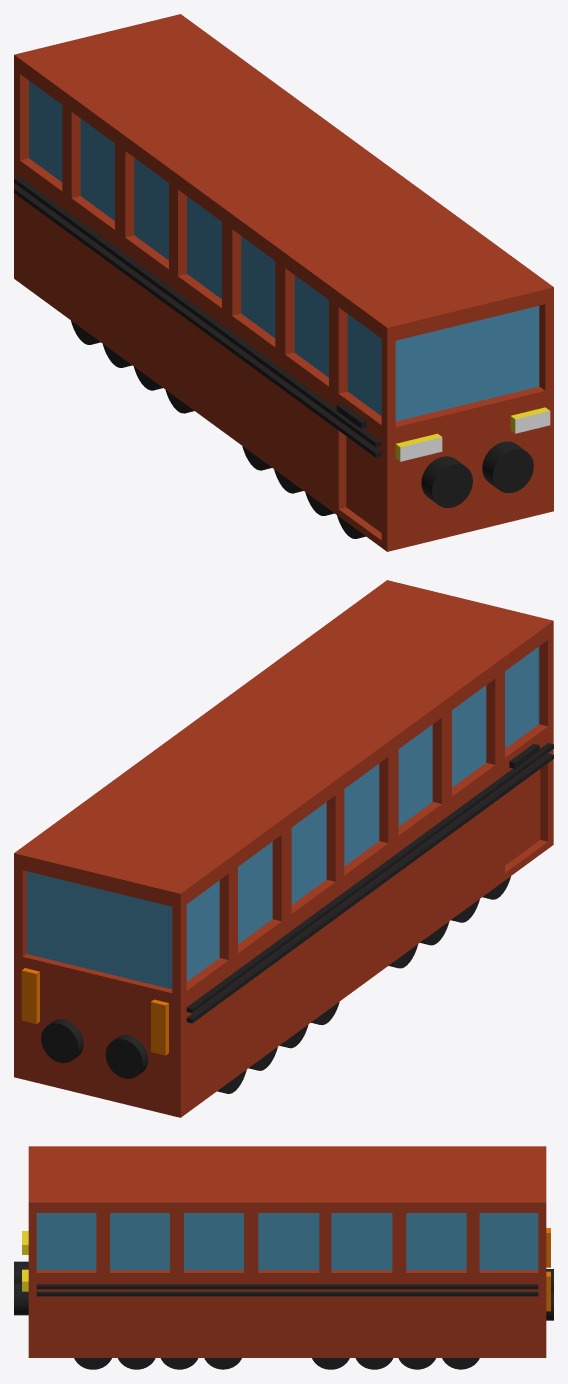
The model's file is tren.fbx.
3 views of the same model, one above another, from view 1: azimuth 30°, elevation 25°; view 2: azimuth 150°, elevation 25°; view 3: azimuth 270°, elevation 25° (orthographic). The views are drawn at different scales.
Visible parts, largest first — view 1: Cylinder; view 2: Cylinder; view 3: Cylinder.
Part boxes in pixels (x1=…): Cylinder: x1=14, y1=14, x2=553, y2=551; Cylinder: x1=14, y1=580, x2=553, y2=1117; Cylinder: x1=14, y1=1146, x2=553, y2=1369.
Bounding box in the file's own units: 241 × 318 × 915.
Materials: 1 (1 with a texture image).
